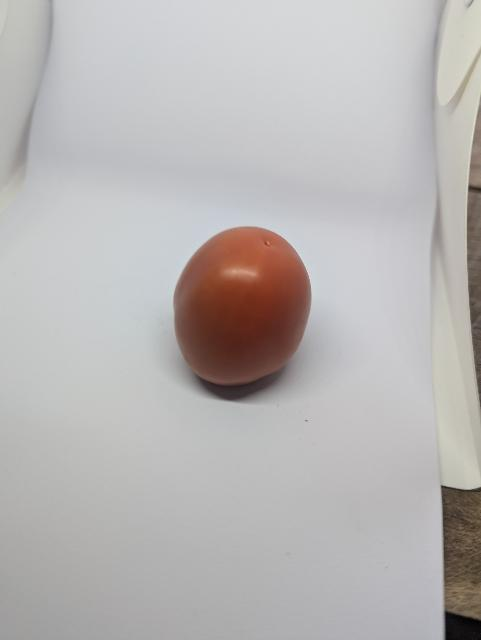red: (153, 217, 332, 405)
